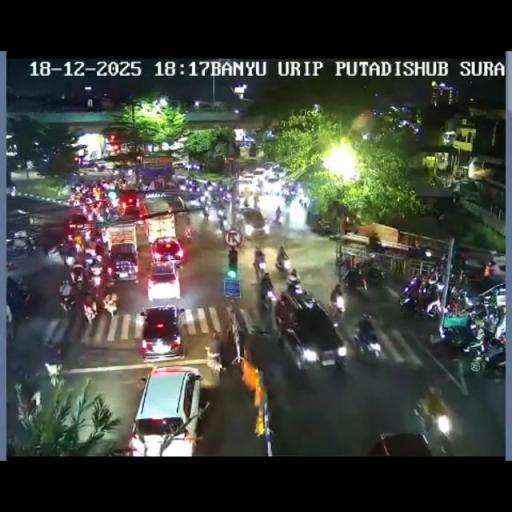Car: (128, 366, 203, 455), (276, 290, 345, 370), (138, 304, 184, 360), (454, 248, 502, 284), (107, 242, 140, 282), (154, 186, 206, 211), (150, 236, 184, 267), (238, 206, 268, 238), (65, 212, 93, 242), (118, 190, 142, 216), (76, 158, 106, 172), (238, 174, 254, 194), (252, 167, 266, 185), (266, 169, 279, 182)
Motorcycle: (416, 408, 456, 455), (464, 332, 504, 373), (400, 282, 442, 318), (437, 314, 478, 350), (350, 321, 382, 362), (205, 331, 222, 376), (342, 267, 366, 294), (42, 338, 62, 370), (362, 262, 385, 288), (464, 301, 490, 324), (445, 287, 466, 314), (286, 278, 308, 302), (86, 230, 108, 254), (259, 282, 276, 311), (421, 266, 441, 288), (58, 289, 76, 313), (87, 266, 105, 290), (102, 291, 118, 318), (315, 218, 338, 236), (70, 262, 86, 285), (436, 252, 450, 278), (274, 252, 292, 272), (82, 298, 97, 322), (329, 296, 345, 318), (252, 257, 266, 281), (102, 202, 118, 220), (214, 188, 232, 204), (23, 238, 37, 256), (199, 190, 214, 206), (185, 226, 198, 242), (217, 206, 226, 226), (64, 253, 76, 267), (272, 211, 282, 226), (298, 197, 308, 209), (255, 182, 263, 196), (201, 204, 209, 218), (284, 194, 293, 206), (253, 193, 259, 207)
